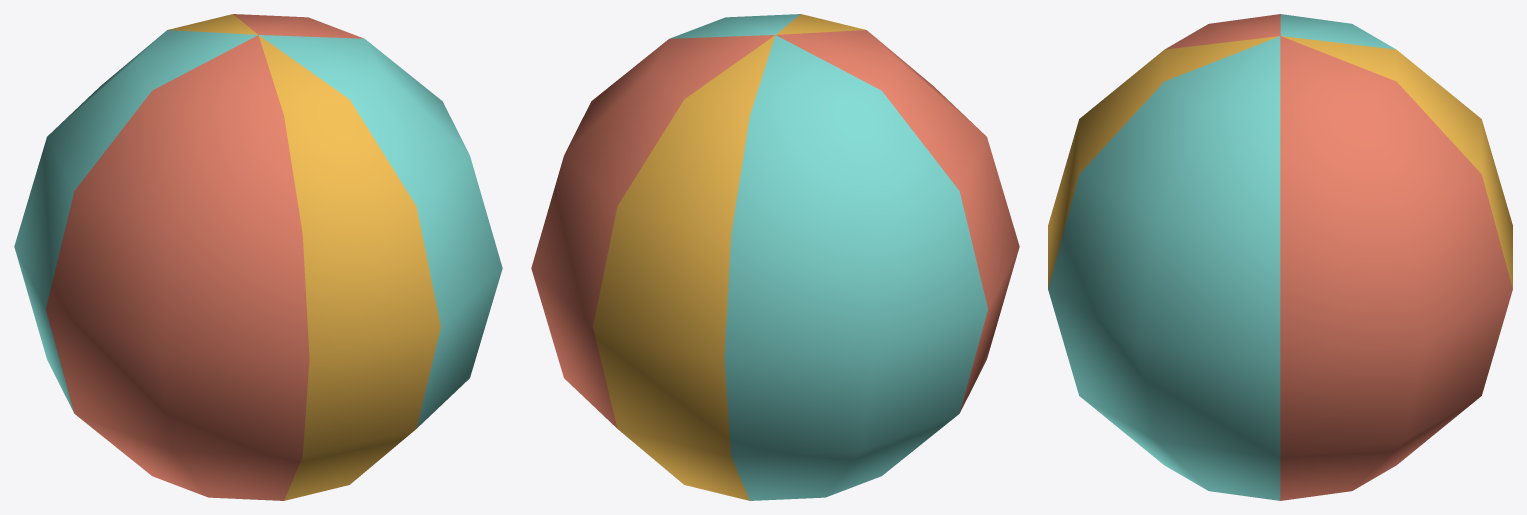
The model's file is xy_beach_ball.glb.
3 renders of one model, left to right at view 1: azimuth 30°, elevation 25°; view 2: azimuth 150°, elevation 25°; view 3: azimuth 270°, elevation 25°, orthographic.
Visible parts, largest first — view 1: BeachBall; view 2: BeachBall; view 3: BeachBall.
Part boxes in pixels (left/top/right/bottom): BeachBall: left=14, top=14, right=502, bottom=500; BeachBall: left=531, top=14, right=1019, bottom=500; BeachBall: left=1048, top=14, right=1512, bottom=500.
Size of the model in its own units: 0.8 by 0.8 by 0.7608.
